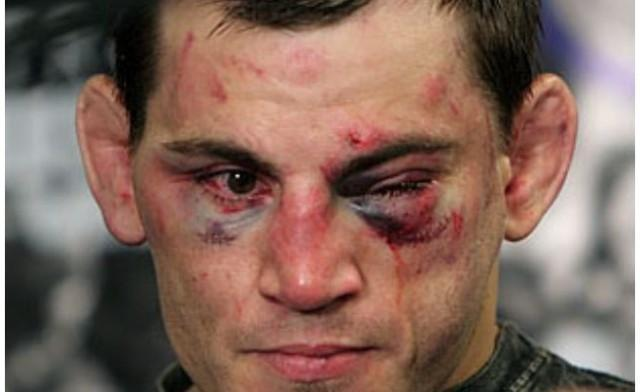Fire: (332, 132, 465, 296), (173, 156, 281, 245)
